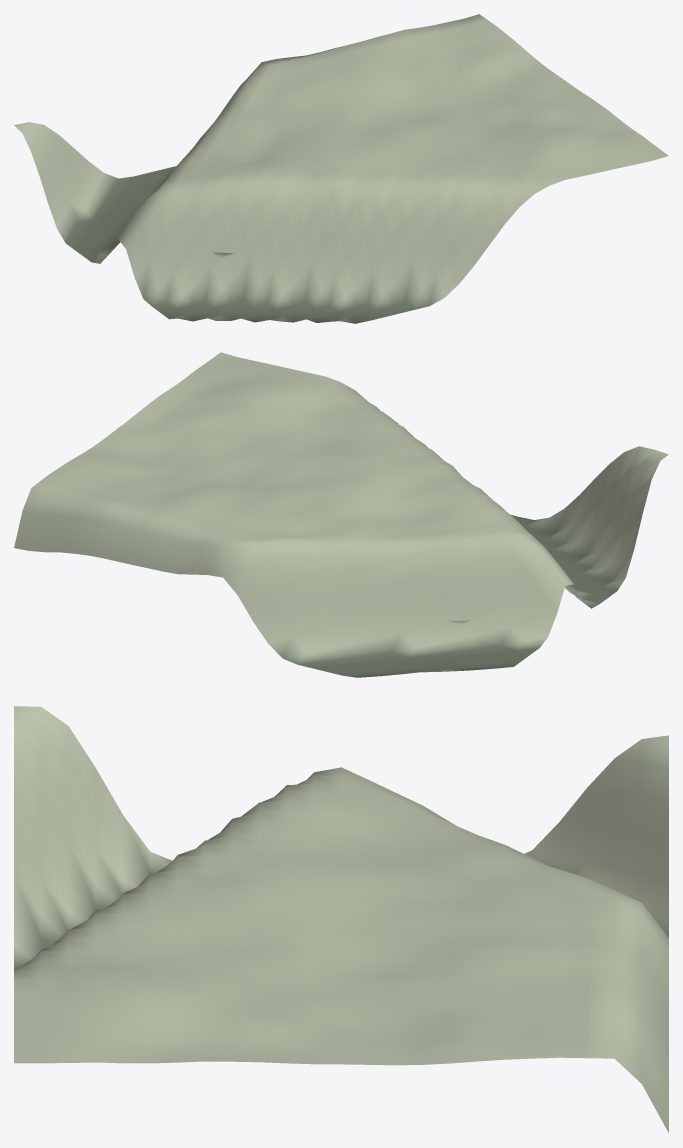
3 renders of one model, top to bottom at view 1: azimuth 30°, elevation 25°; view 2: azimuth 150°, elevation 25°; view 3: azimuth 270°, elevation 25°, orthographic. The views are drawn at different scales.
Visible parts, largest first — view 1: world-ground/120-96; view 2: world-ground/120-96; view 3: world-ground/120-96.
Boxes of the visible parts, x1,y1,x2,y2 form: world-ground/120-96: (14, 14, 668, 323); world-ground/120-96: (14, 352, 668, 677); world-ground/120-96: (14, 706, 668, 1132).
Size of the model in its own units: 37.5 by 8.01 by 30.
